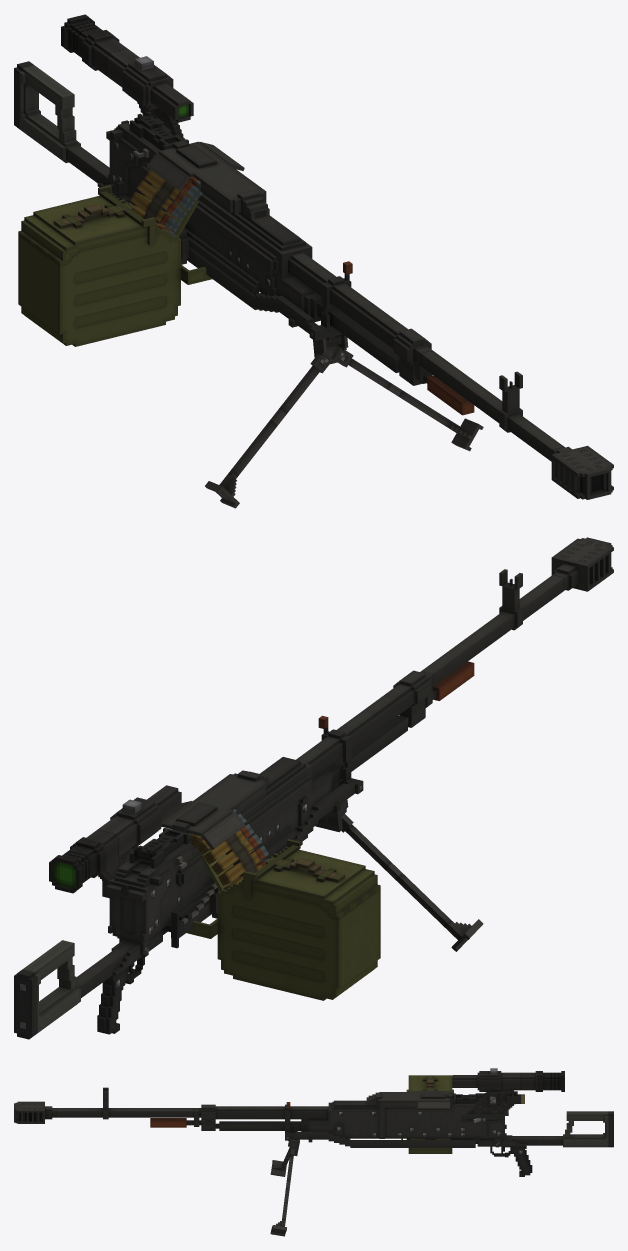
File: RD_KORD.glb
3 views of the same model, one above another, from view 1: azimuth 30°, elevation 25°; view 2: azimuth 150°, elevation 25°; view 3: azimuth 270°, elevation 25° (orthographic). The views are drawn at different scales.
Parts seen in each view (by area): view 1: KORD, KORD_CLIP, KORD_SCOPE, KORD_COVER, KORD_DIPOD_LEG2, KORD_DIPOD_LEG1, KORD_BULLET02, KORD_BULLET03; view 2: KORD, KORD_CLIP, KORD_SCOPE, KORD_COVER, KORD_DIPOD_LEG2, KORD_BULLET02, KORD_BULLET03; view 3: KORD, KORD_SCOPE, KORD_COVER, KORD_CLIP, KORD_DIPOD_LEG1, KORD_COVER2, KORD_DIPOD_LEG2.
Boxes of the visible parts, bbox=[...] form: KORD: bbox=[14, 61, 613, 499]; KORD_CLIP: bbox=[18, 185, 212, 346]; KORD_SCOPE: bbox=[61, 14, 193, 139]; KORD_COVER: bbox=[146, 140, 269, 219]; KORD_DIPOD_LEG2: bbox=[205, 353, 332, 508]; KORD_DIPOD_LEG1: bbox=[331, 346, 483, 451]; KORD_BULLET02: bbox=[130, 191, 180, 231]; KORD_BULLET03: bbox=[137, 180, 187, 221]; KORD: bbox=[14, 537, 613, 1039]; KORD_CLIP: bbox=[187, 839, 380, 1000]; KORD_SCOPE: bbox=[49, 785, 181, 898]; KORD_COVER: bbox=[162, 770, 269, 849]; KORD_DIPOD_LEG2: bbox=[341, 814, 483, 951]; KORD_BULLET02: bbox=[218, 845, 268, 885]; KORD_BULLET03: bbox=[211, 834, 261, 874]; KORD: bbox=[14, 1087, 613, 1176]; KORD_SCOPE: bbox=[452, 1068, 564, 1123]; KORD_COVER: bbox=[366, 1091, 452, 1107]; KORD_CLIP: bbox=[401, 1075, 453, 1153]; KORD_DIPOD_LEG1: bbox=[270, 1148, 294, 1236]; KORD_COVER2: bbox=[417, 1101, 450, 1109]; KORD_DIPOD_LEG2: bbox=[270, 1148, 290, 1176].
Bounding box in the file's own units: 0.9535 × 0.8262 × 3.25.
1 material, 1 textured.
